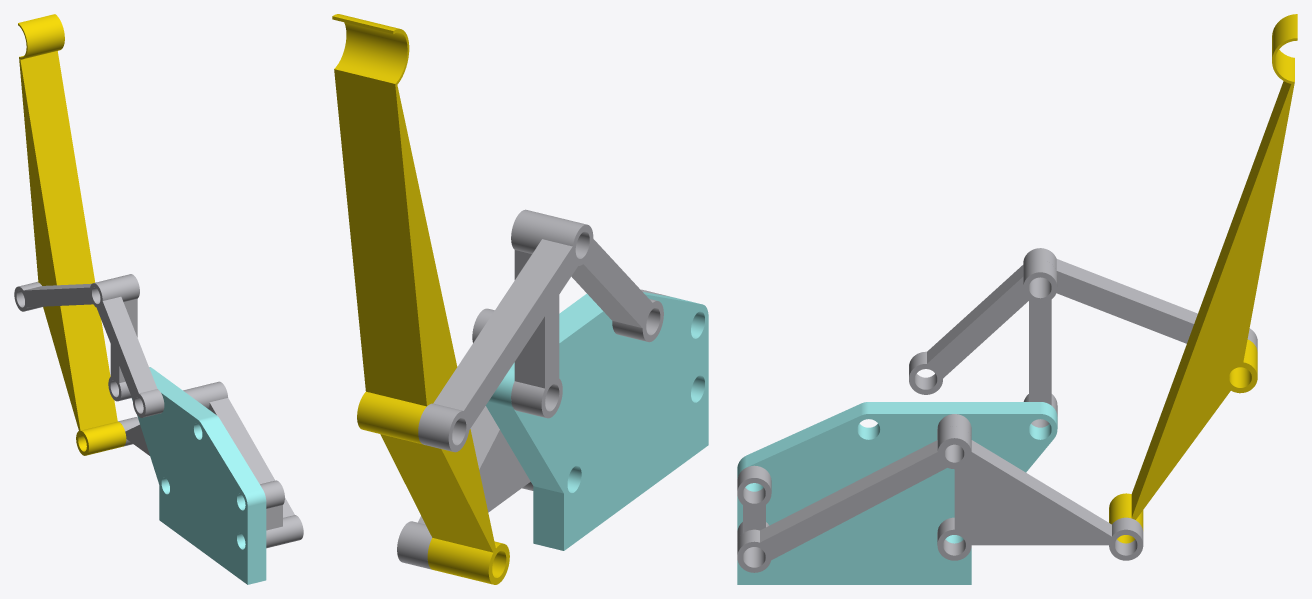
Rendered from fl_power_top.dae.
The picture shows the model from 3 angles, left to right: view 1: azimuth 30°, elevation 25°; view 2: azimuth 150°, elevation 25°; view 3: azimuth 270°, elevation 25°; orthographic projection. The views are drawn at different scales.
Parts seen in each view (by area): view 1: hanging_arm_fl, body1_fl, connector_top_fl, connector_bottom_fl, connector_arm_fl, fixed_top_fl, power_bottom_fl, fixed_bottom_fl; view 2: hanging_arm_fl, body1_fl, connector_arm_fl, fixed_top_fl, connector_top_fl, fixed_bottom_fl; view 3: body1_fl, hanging_arm_fl, fixed_bottom_fl, connector_bottom_fl, connector_arm_fl, connector_top_fl, fixed_top_fl, power_bottom_fl.
Boxes of the visible parts, x1=… form: hanging_arm_fl: x1=18, y1=14, x2=126, y2=455; body1_fl: x1=131, y1=367, x2=266, y2=584; connector_top_fl: x1=90, y1=278, x2=164, y2=417; connector_bottom_fl: x1=201, y1=381, x2=303, y2=544; connector_arm_fl: x1=14, y1=278, x2=121, y2=311; fixed_top_fl: x1=108, y1=274, x2=139, y2=401; power_bottom_fl: x1=260, y1=480, x2=284, y2=548; fixed_bottom_fl: x1=118, y1=386, x2=209, y2=455; hanging_arm_fl: x1=332, y1=14, x2=509, y2=584; body1_fl: x1=485, y1=292, x2=708, y2=550; connector_arm_fl: x1=418, y1=217, x2=592, y2=452; fixed_top_fl: x1=511, y1=209, x2=562, y2=418; connector_top_fl: x1=542, y1=217, x2=663, y2=342; fixed_bottom_fl: x1=397, y1=406, x2=533, y2=569; body1_fl: x1=737, y1=402, x2=1057, y2=584; hanging_arm_fl: x1=1109, y1=14, x2=1297, y2=543; fixed_bottom_fl: x1=937, y1=414, x2=1143, y2=560; connector_bottom_fl: x1=737, y1=426, x2=971, y2=572; connector_arm_fl: x1=1023, y1=248, x2=1257, y2=351; connector_top_fl: x1=909, y1=248, x2=1056, y2=394; fixed_top_fl: x1=1023, y1=260, x2=1057, y2=427; power_bottom_fl: x1=737, y1=465, x2=771, y2=555.
Size of the model in its own units: 0.025 by 0.098 by 0.1055.
